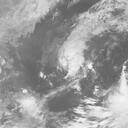cyclone: (55, 37, 97, 88)
